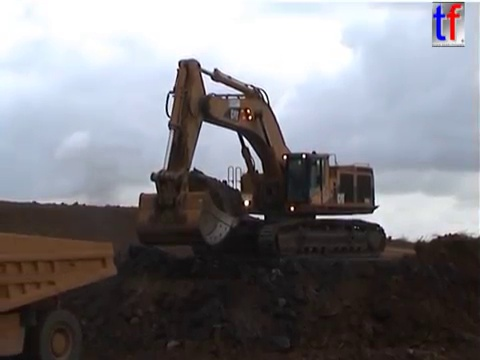excavator: (133, 56, 390, 262)
truck: (1, 227, 120, 360)
